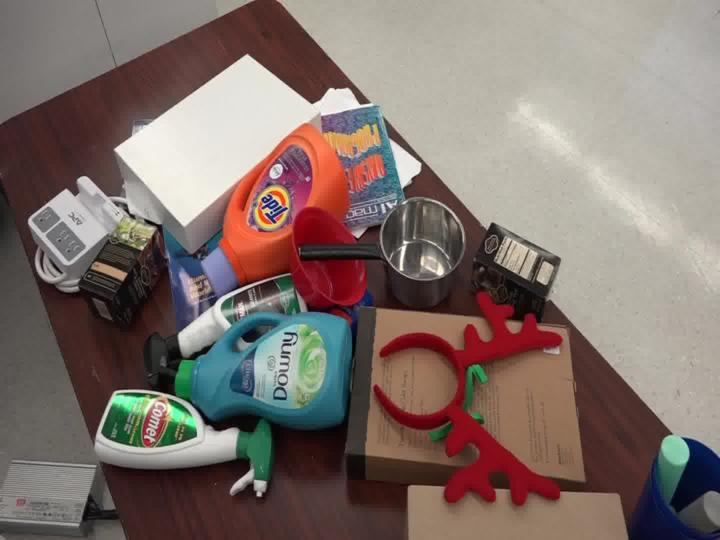downy: (151, 295, 364, 441)
